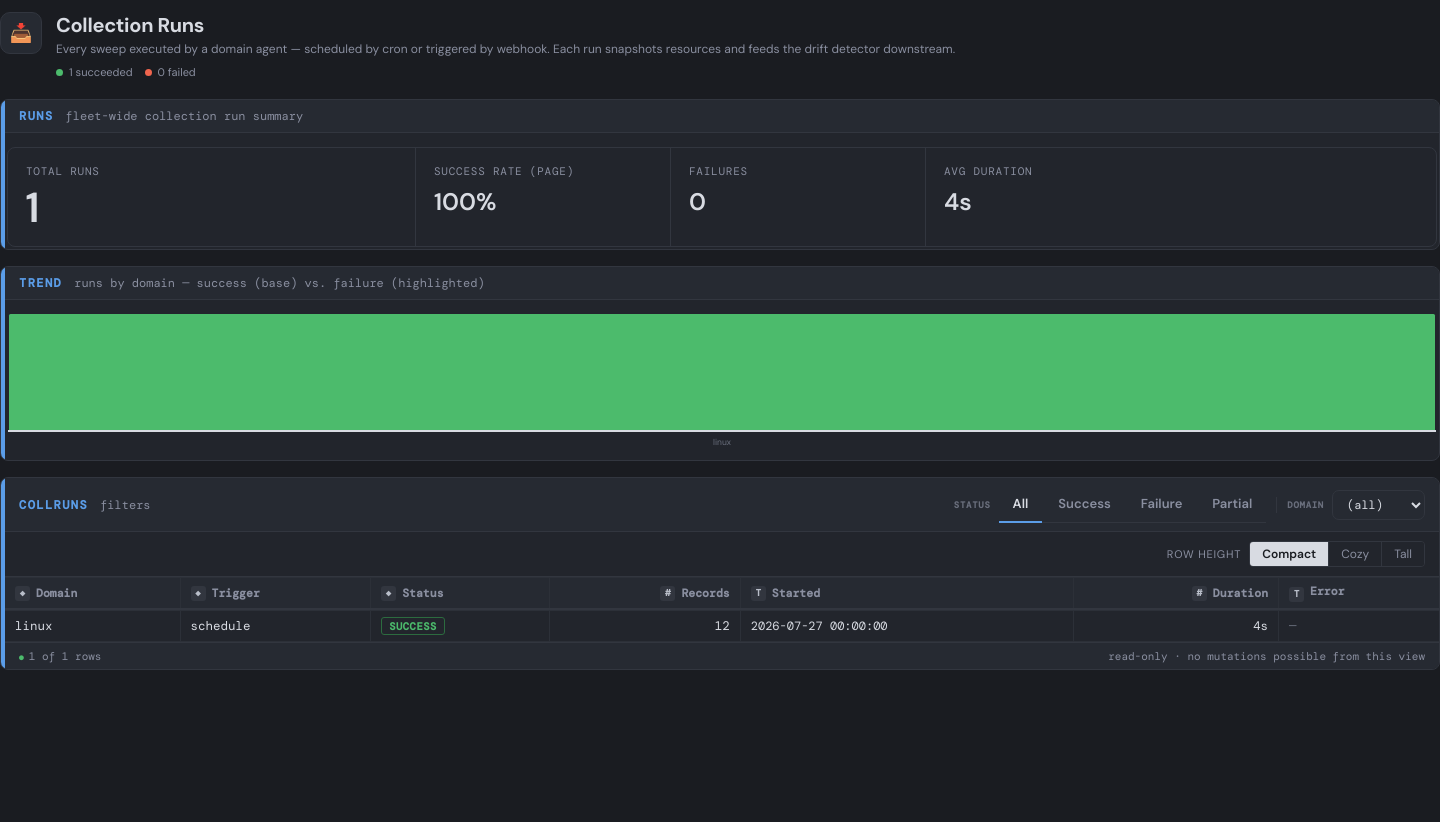
Test: CollRuns page › F-5: pushes the domain filter server-side so a domain outside the fetched window is not falsely reported as no matches
Expected: the text "linux" is shown, [713,437,731,448]
Step 1. Select "windows" in the dropdown showing "(all)" → (1378, 505), box [1332,490,1425,520]
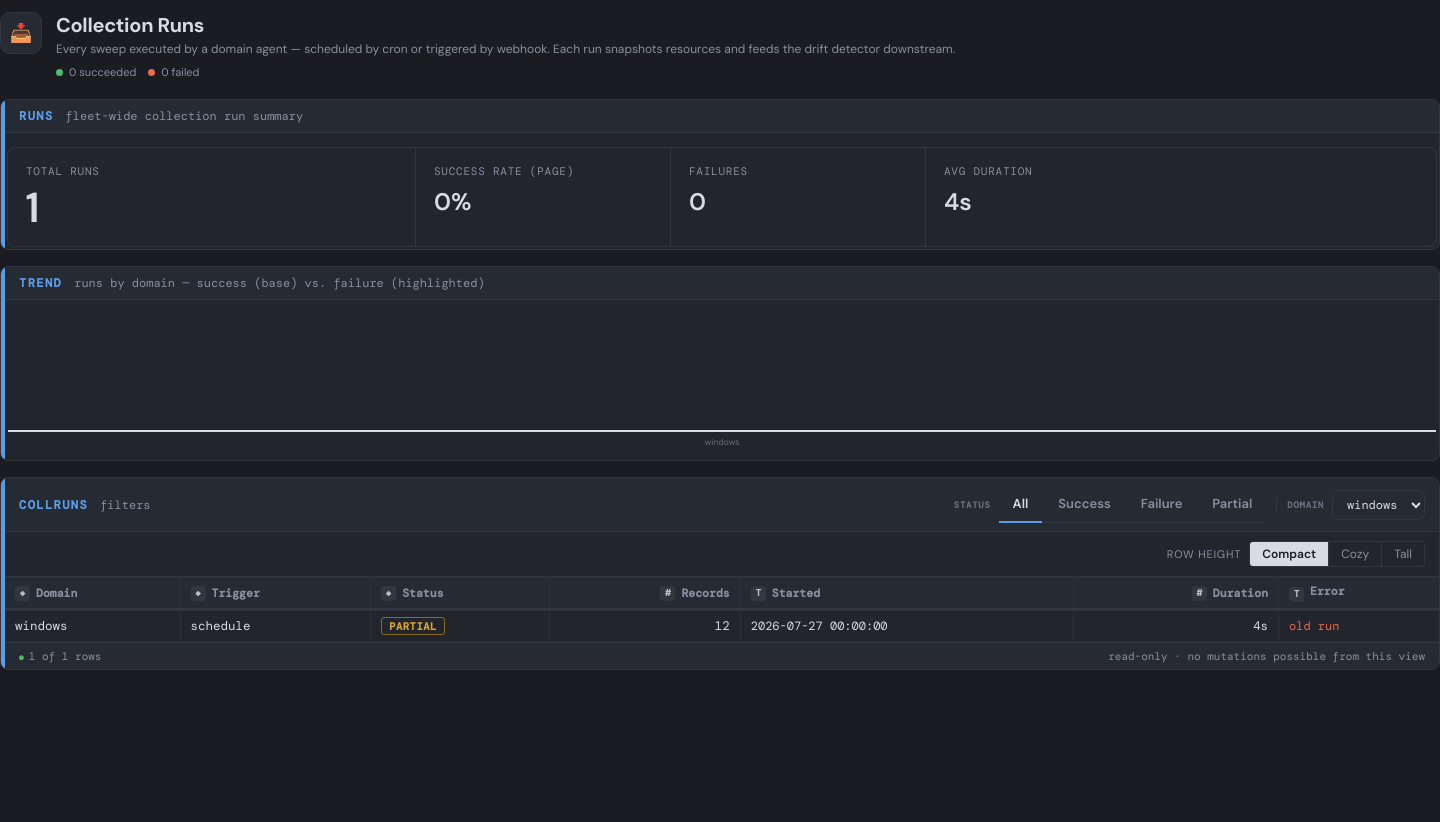
Result: the text "partial" is shown at [381,617,445,635]
